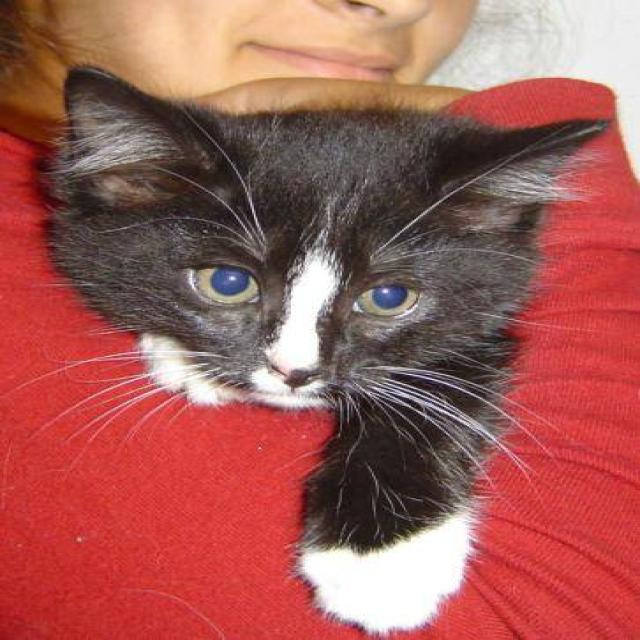cat: (18, 63, 610, 636)
